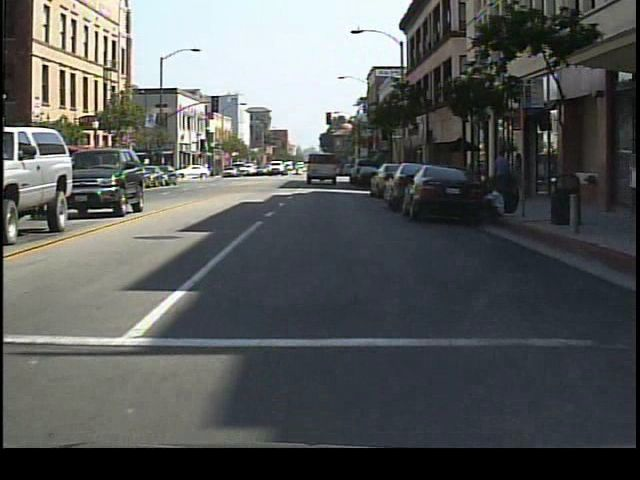person: (489, 143, 515, 208), (507, 150, 530, 205)
